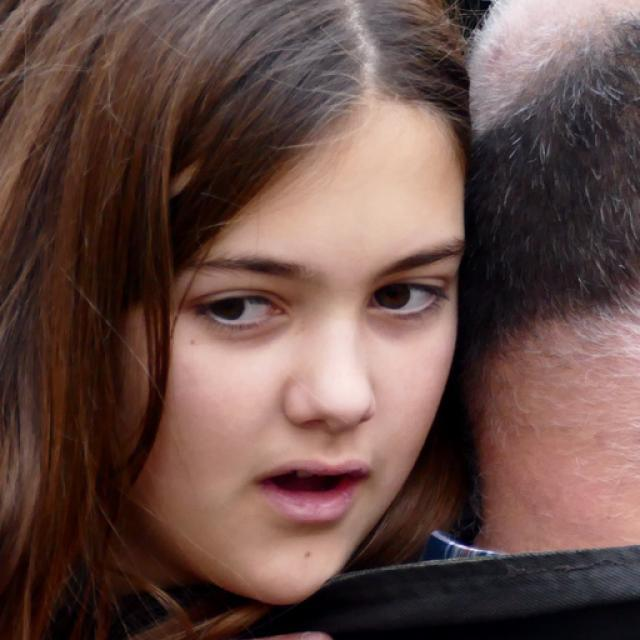neutral: (110, 78, 470, 606)
